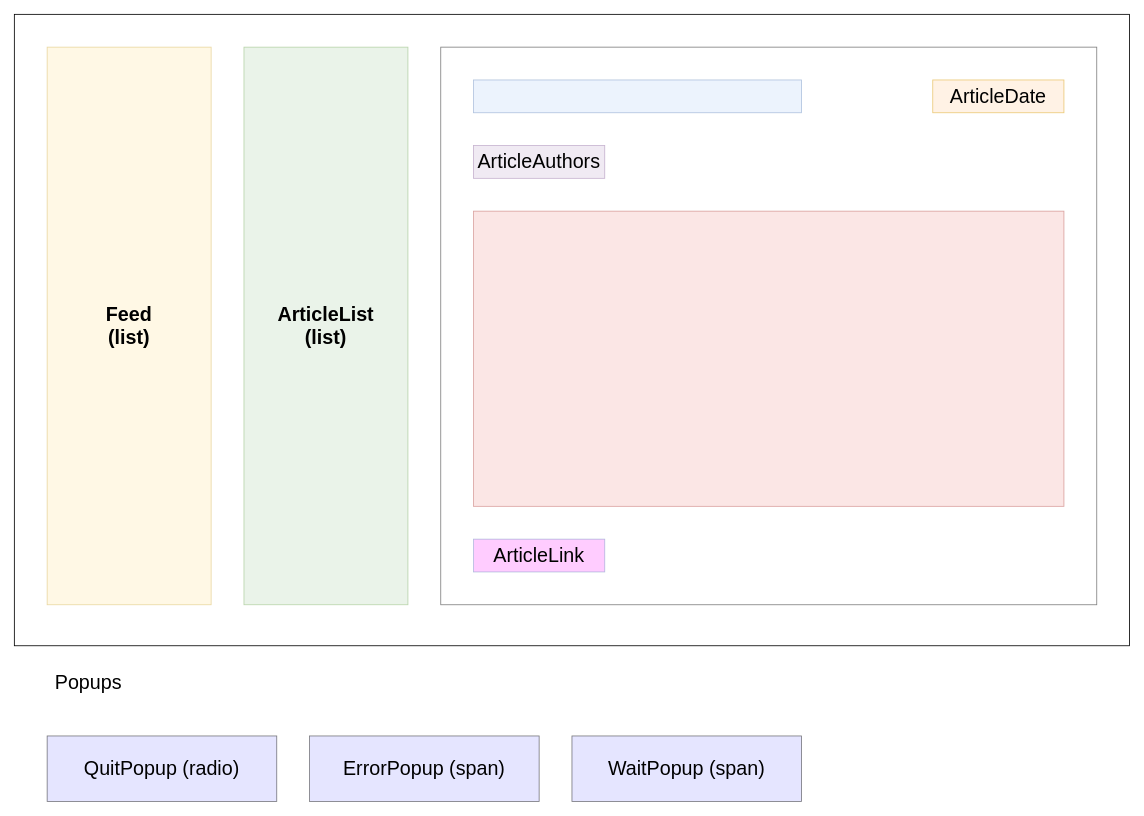
The diagram is 1144 pixels wide and 816 high, and some of its shapes have lost their labels. Here are the shapes that lost their labels. From the top down, the centre of each, then its label:
At [637,96]: "ArticleTitle".
At [768,358]: "ArticleSummary (textarea)".
